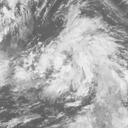cyclone: (39, 35, 111, 101)
